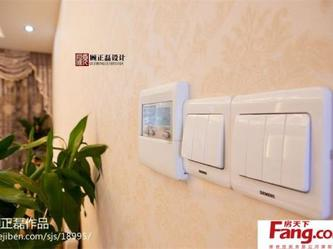switch: (284, 112, 309, 193), (265, 113, 284, 187), (245, 111, 265, 179), (233, 112, 248, 177), (192, 111, 209, 164), (207, 111, 223, 167), (182, 112, 194, 161)
